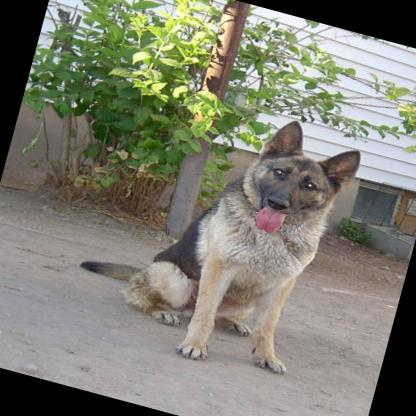German_shepherd: (64, 75, 366, 387)
